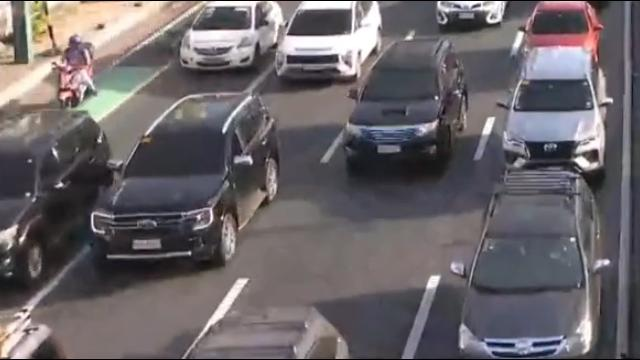car: (89, 93, 280, 278), (452, 179, 603, 360), (340, 43, 471, 179), (0, 103, 98, 280), (500, 52, 609, 172), (276, 0, 385, 83), (176, 0, 287, 73), (521, 0, 603, 51), (433, 0, 508, 31)
motorcycle: (53, 33, 96, 117)
